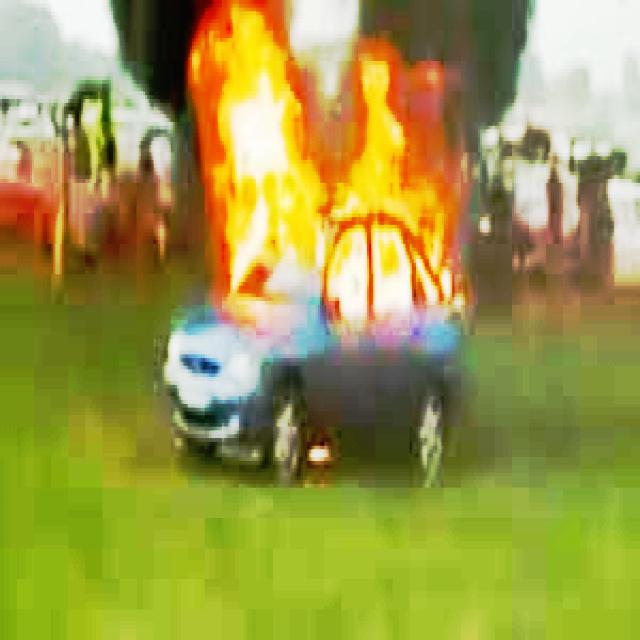api: (185, 9, 343, 306), (317, 39, 475, 298)
